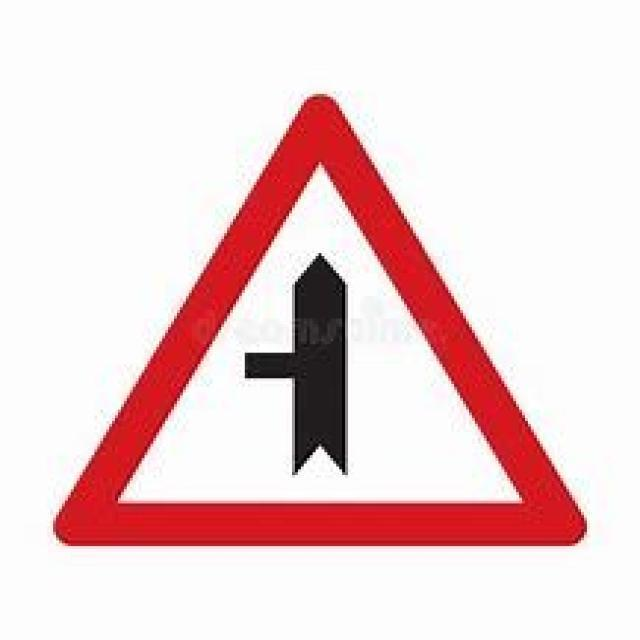side road left: (54, 89, 593, 556)
